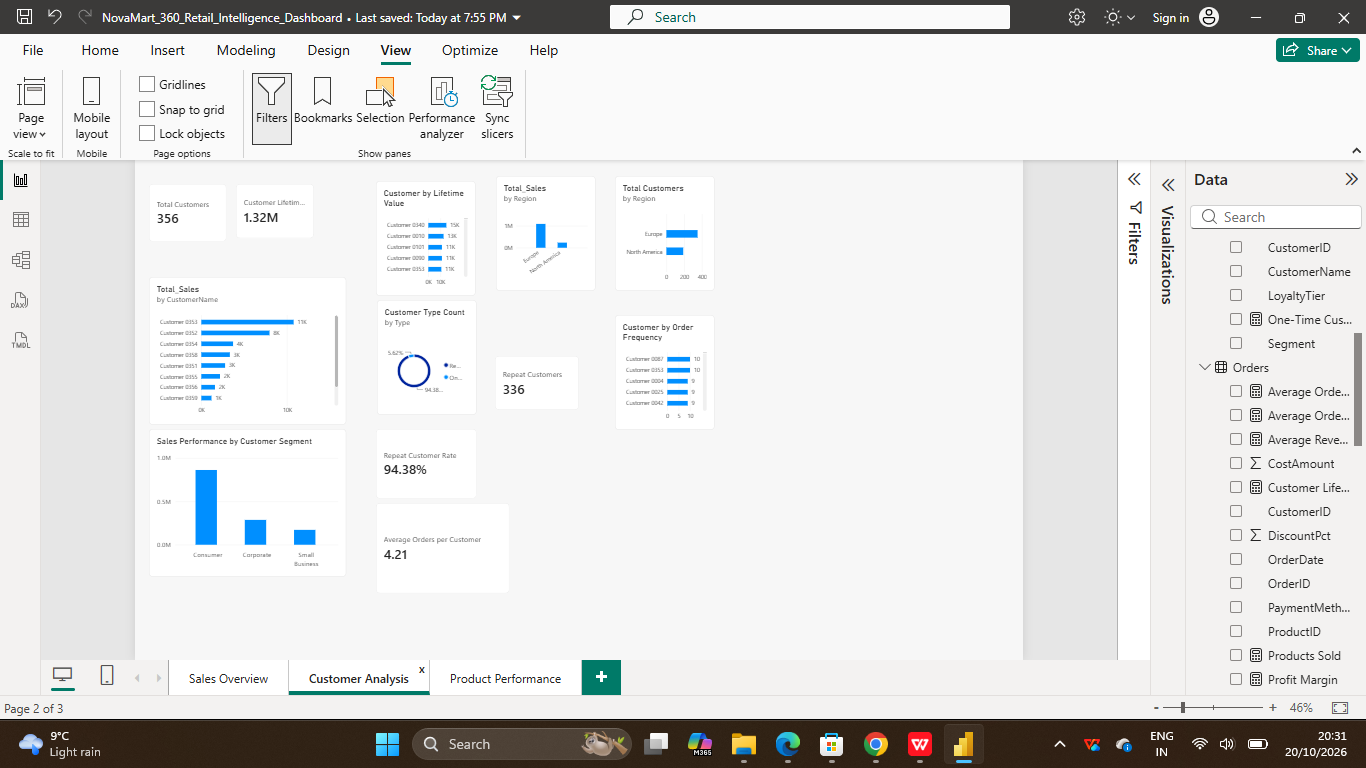

The page's visual inventory and layout, read from the dashboard file:
{"tool":"powerbi","page":{"name":"Customer Analysis","canvas":[1920,1080],"ordinal":1},"visuals":[{"type":"cardVisual","fields":{"Data":["Orders.Total Customers"]},"box":[30,51.4,167.7,124.6],"z":0},{"type":"clusteredBarChart","fields":{"Category":["Customers.CustomerName"],"Y":["Orders.Total_Sales"]},"box":[30,252.9,425.7,318.6],"z":1000},{"type":"clusteredColumnChart","title":"Sales Performance by Customer Segment","fields":{"Category":["Customers.Segment"],"Y":["Orders.Total_Sales"]},"box":[30,582,426,319],"z":2000},{"type":"cardVisual","fields":{"Data":["Orders.Repeat Customers"]},"box":[778.6,424.3,181,116],"z":3000},{"type":"cardVisual","fields":{"Data":["Orders.Repeat Customer Rate"]},"box":[521.4,581.4,217.1,150],"z":4000},{"type":"cardVisual","fields":{"Data":["Orders.Customer Lifetime Value"]},"box":[219,51,168,117],"z":5000},{"type":"clusteredBarChart","title":"Customer by Lifetime Value","fields":{"Category":["Customers.CustomerName"],"Y":["Orders.Customer Lifetime Value"]},"box":[521.4,44.3,215,248],"z":6000},{"type":"clusteredColumnChart","fields":{"Category":["Stores.Region"],"Y":["Orders.Total_Sales"]},"box":[779.5,35,215,248],"z":7000},{"type":"clusteredBarChart","fields":{"Category":["Stores.Region"],"Y":["Orders.Total Customers"]},"box":[1037.5,35,215,248],"z":8000},{"type":"donutChart","fields":{"Category":["Customer Type.Type"],"Y":["Customer Type.Customer Type Count"]},"box":[522,302,215,248],"z":9000},{"type":"cardVisual","fields":{"Data":["Orders.Average Orders per Customer"]},"box":[521.4,741.4,288.6,195.7],"z":10000},{"type":"clusteredBarChart","title":"Customer by Order Frequency","fields":{"Category":["Customers.CustomerName"],"Y":["Orders.Total_Orders"]},"box":[1037.1,334.3,215,248],"z":11000}]}

Visuals, with their boxes on the page's 1920x1080 design canvas (x1, y1, x2, y2). These are canvas units, not pixel positions in the 1366x768 screenshot, which may show the page scaled, cropped or inside an application window:
cardVisual - Orders.Total Customers: (left=30, top=51, right=198, bottom=176)
clusteredBarChart - Customers.CustomerName x Orders.Total_Sales: (left=30, top=253, right=456, bottom=572)
"Sales Performance by Customer Segment" clusteredColumnChart: (left=30, top=582, right=456, bottom=901)
cardVisual - Orders.Repeat Customers: (left=779, top=424, right=960, bottom=540)
cardVisual - Orders.Repeat Customer Rate: (left=521, top=581, right=738, bottom=731)
cardVisual - Orders.Customer Lifetime Value: (left=219, top=51, right=387, bottom=168)
"Customer by Lifetime Value" clusteredBarChart: (left=521, top=44, right=736, bottom=292)
clusteredColumnChart - Stores.Region x Orders.Total_Sales: (left=780, top=35, right=994, bottom=283)
clusteredBarChart - Stores.Region x Orders.Total Customers: (left=1038, top=35, right=1252, bottom=283)
donutChart - Customer Type.Type x Customer Type.Customer Type Count: (left=522, top=302, right=737, bottom=550)
cardVisual - Orders.Average Orders per Customer: (left=521, top=741, right=810, bottom=937)
"Customer by Order Frequency" clusteredBarChart: (left=1037, top=334, right=1252, bottom=582)
